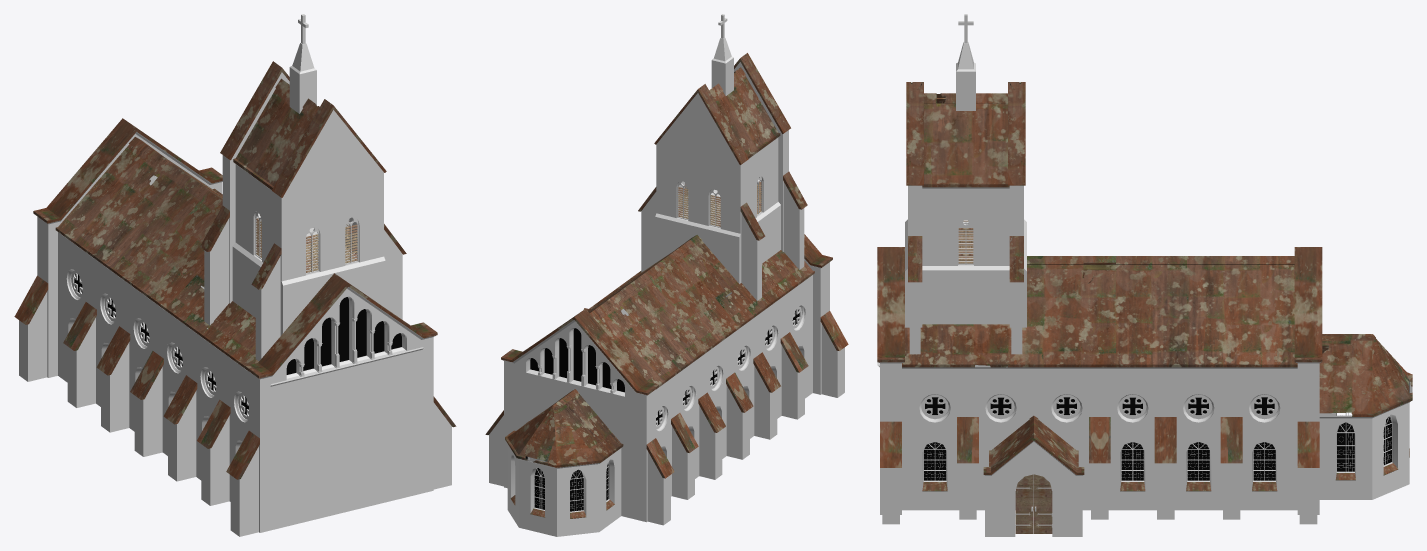
The model's file is BigFuckOffChurch.fbx.
3 views of the same model, side by side, from view 1: azimuth 30°, elevation 25°; view 2: azimuth 150°, elevation 25°; view 3: azimuth 270°, elevation 25° (orthographic). The views are drawn at different scales.
Visible parts, largest first — view 1: Church, Tower; view 2: Church, Tower; view 3: Church, Tower, Door.
Boxes of the visible parts, <box> form: Church: <box>14,118,456,536</box>; Tower: <box>200,42,406,360</box>; Church: <box>485,181,848,536</box>; Tower: <box>638,38,807,300</box>; Church: <box>877,247,1412,536</box>; Tower: <box>905,42,1026,354</box>; Door: <box>1015,474,1052,533</box>.
Size of the model in its own units: 1767 by 3224 by 3411.
